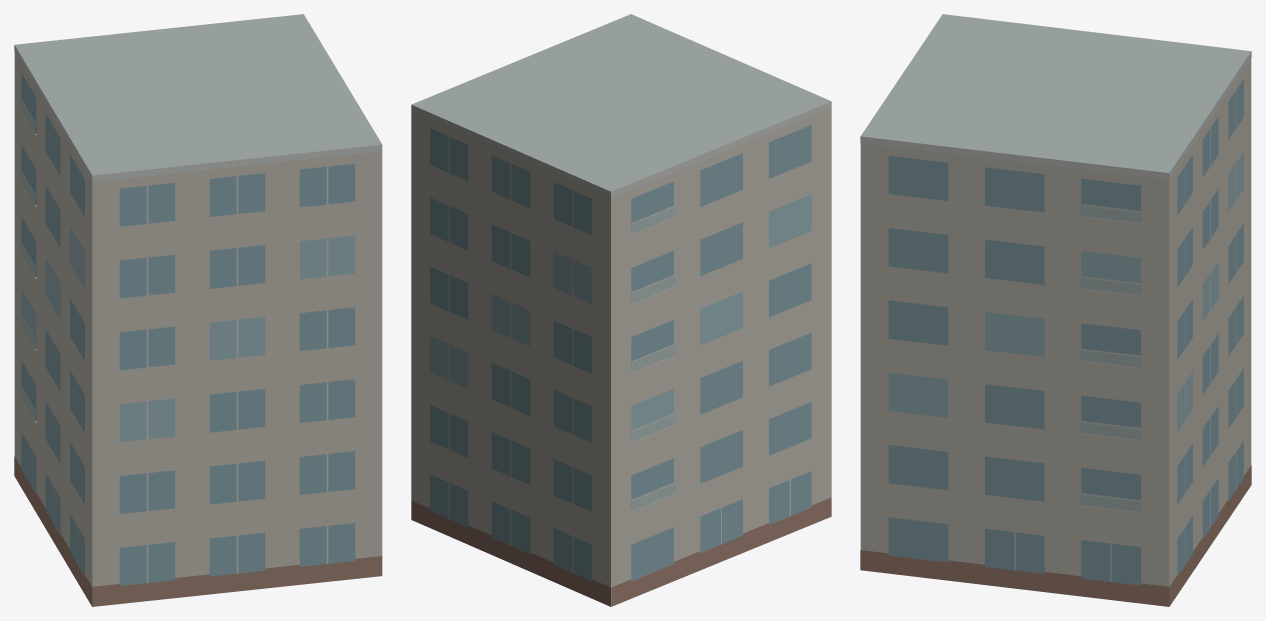
The model's file is survey-upis-32875371.glb.
3 renders of one model, left to right at view 1: azimuth 30°, elevation 25°; view 2: azimuth 150°, elevation 25°; view 3: azimuth 270°, elevation 25°, orthographic. The views are drawn at different scales.
Parts seen in each view (by area): view 1: survey-upis-32875371.tmp; view 2: survey-upis-32875371.tmp; view 3: survey-upis-32875371.tmp.
Part boxes in pixels (box(x1,y1,x2,y2)): survey-upis-32875371.tmp: box(14, 14, 382, 606); survey-upis-32875371.tmp: box(411, 14, 831, 606); survey-upis-32875371.tmp: box(860, 14, 1251, 606).
Bounding box in the file's own units: 12.63 × 16.05 × 13.12.
